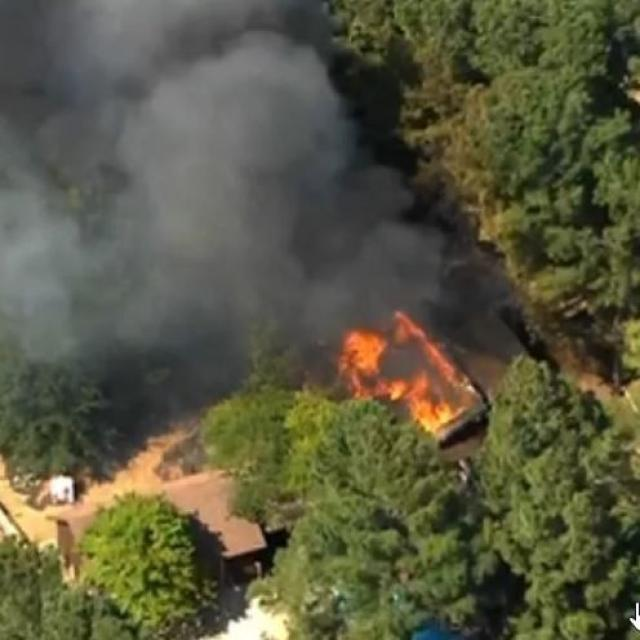Fire: (322, 288, 476, 451)
Smoke: (0, 0, 544, 390)
